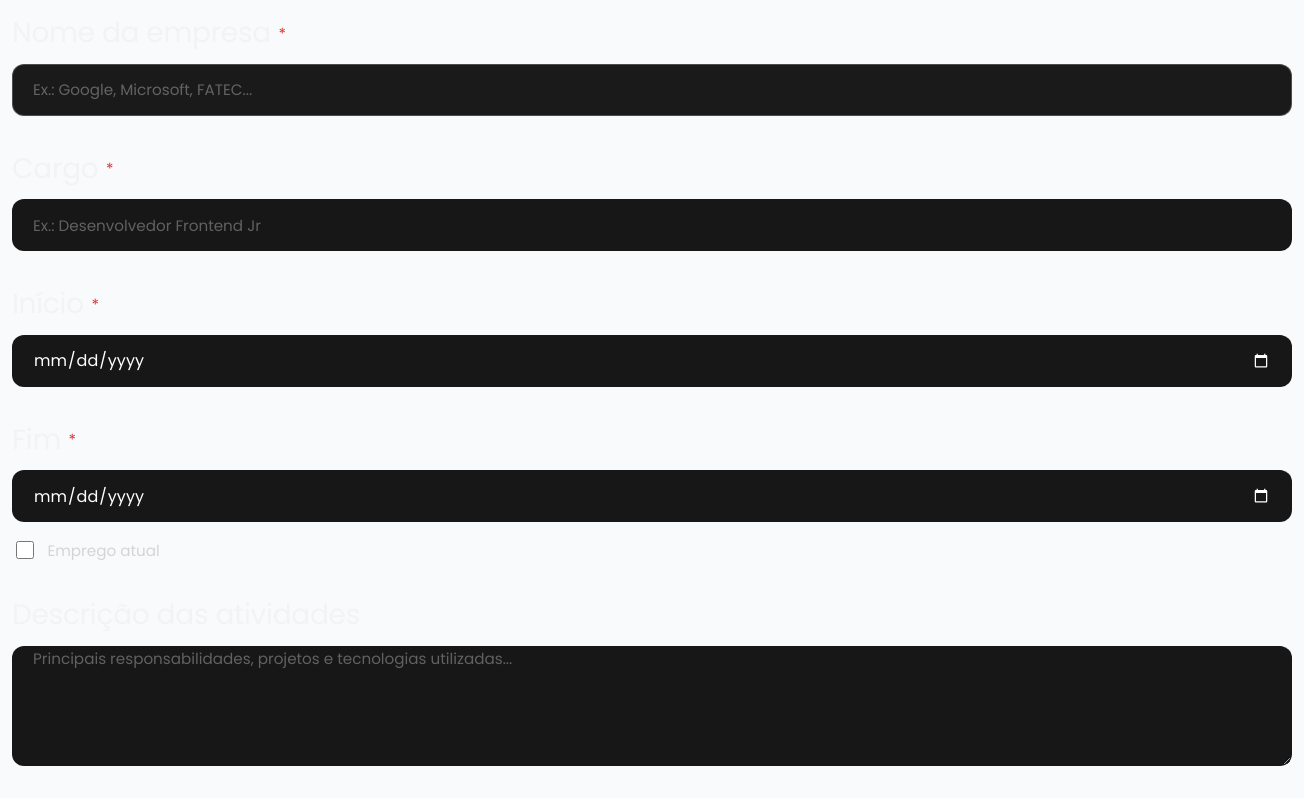
FormularioExperiencias › desabilita o campo Fim quando Emprego atual é marcado
Click the checkbox labelled "Emprego atual".
click(25, 550)  # box [16,541,34,559]
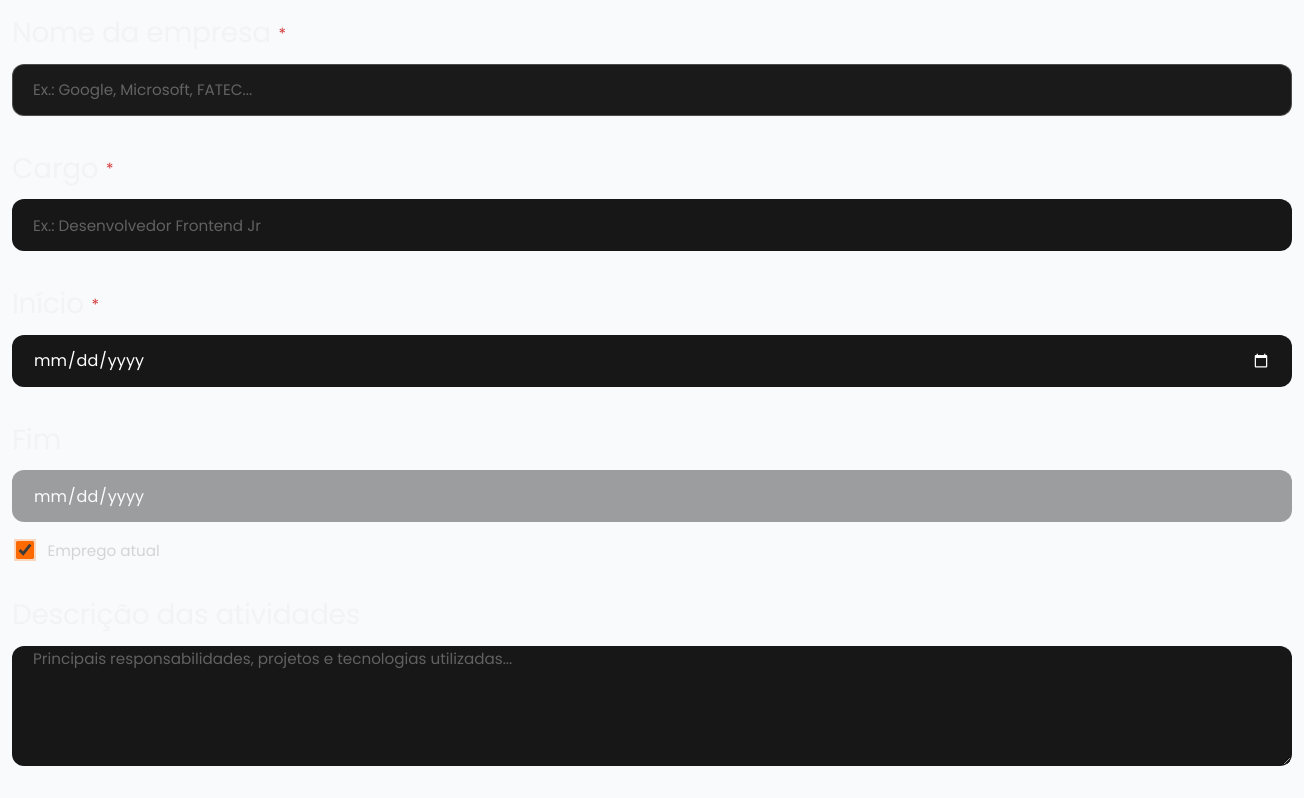
expect the date field labelled "Fim" is disabled: met, box [12,470,1292,522]
